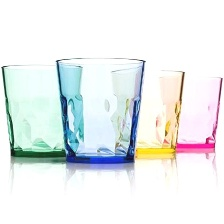glass: (51, 47, 147, 167), (0, 54, 85, 166), (106, 61, 190, 164), (156, 69, 224, 159)
